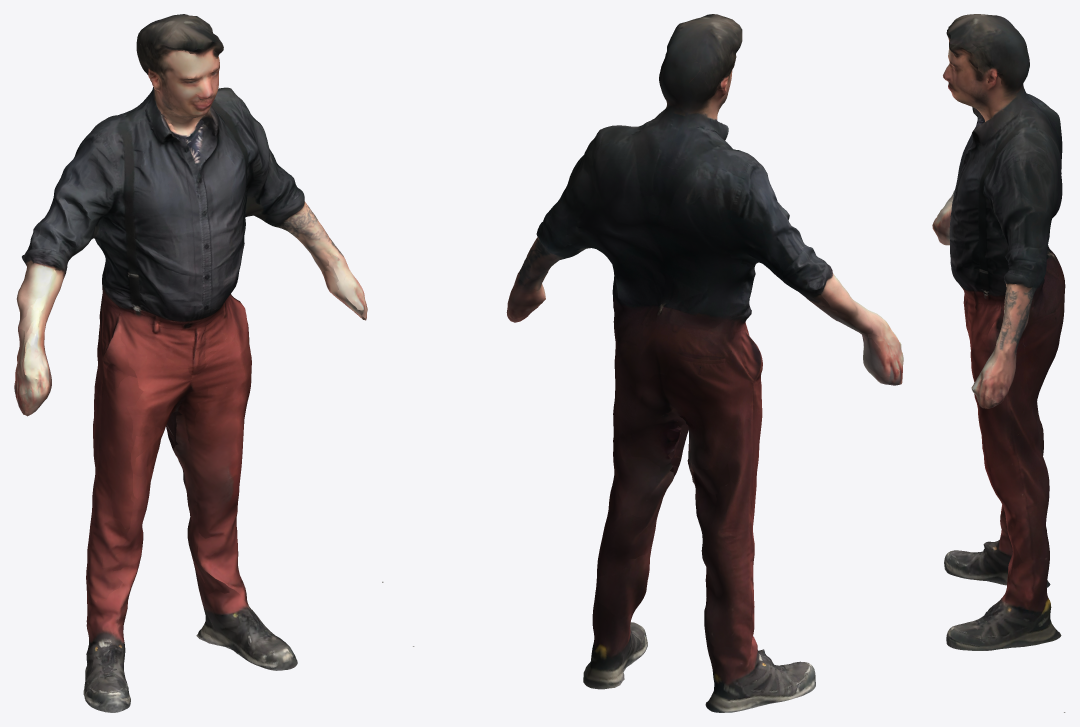
The model's file is cedricModel.gltf.
3 renders of one model, left to right at view 1: azimuth 30°, elevation 25°; view 2: azimuth 150°, elevation 25°; view 3: azimuth 270°, elevation 25°, orthographic. The views are drawn at different scales.
Parts seen in each view (by area): view 1: Mesh_0.002; view 2: Mesh_0.002; view 3: Mesh_0.002.
Part boxes in pixels (<box>): Mesh_0.002: <box>14,14,383,712</box>; Mesh_0.002: <box>413,14,903,712</box>; Mesh_0.002: <box>932,14,1065,712</box>.
Bounding box in the file's own units: 4.25 × 6.23 × 1.28.
Materials: 1 (1 with a texture image).
